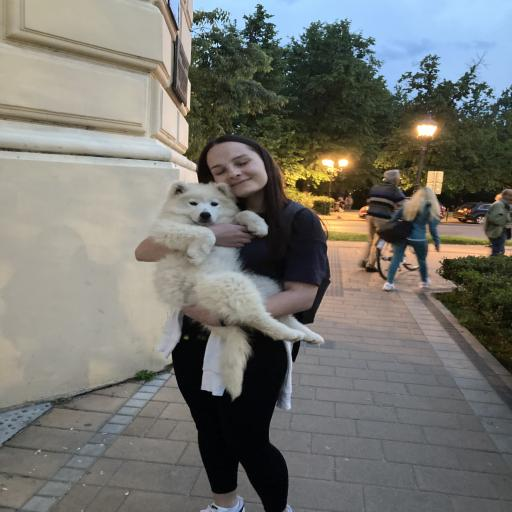marija: (206, 144, 274, 187)
